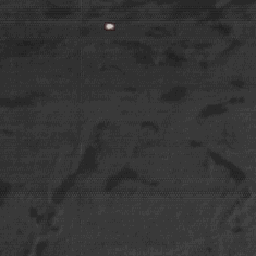Target: (105, 23, 113, 30)
